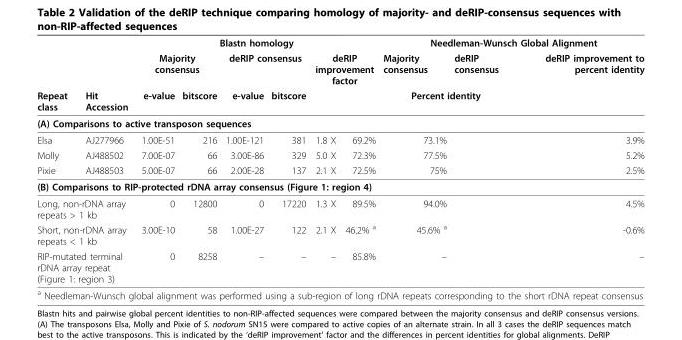table: (36, 36, 643, 300)
table column: (521, 36, 643, 300), (449, 36, 521, 300), (378, 36, 449, 300), (75, 36, 134, 300), (220, 36, 266, 300), (134, 36, 177, 300), (177, 36, 220, 300), (266, 36, 309, 300), (36, 36, 75, 300), (339, 36, 378, 300), (309, 36, 339, 300)
table column header: (36, 36, 643, 114)
table projected row header: (36, 114, 643, 131), (36, 178, 643, 194), (36, 286, 643, 300)
table row: (36, 49, 643, 87), (36, 248, 643, 286), (36, 87, 643, 114), (36, 194, 643, 221), (36, 221, 643, 248), (36, 114, 643, 131), (36, 131, 643, 147), (36, 162, 643, 178), (36, 178, 643, 194), (36, 147, 643, 162), (36, 286, 643, 300), (36, 36, 643, 49)
table spanning cell: (521, 49, 643, 114), (449, 248, 643, 286), (449, 194, 643, 221), (449, 221, 643, 248), (75, 36, 134, 114), (378, 87, 521, 114), (36, 248, 134, 286), (378, 36, 643, 49), (220, 49, 309, 87), (134, 49, 220, 87), (134, 36, 378, 49), (449, 131, 643, 147), (449, 162, 643, 178), (36, 36, 75, 114), (449, 147, 643, 162), (36, 194, 134, 221), (36, 221, 134, 248), (309, 49, 378, 87)
